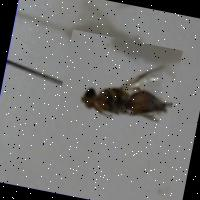Oriental-fruit-fly: (53, 28, 182, 148)
